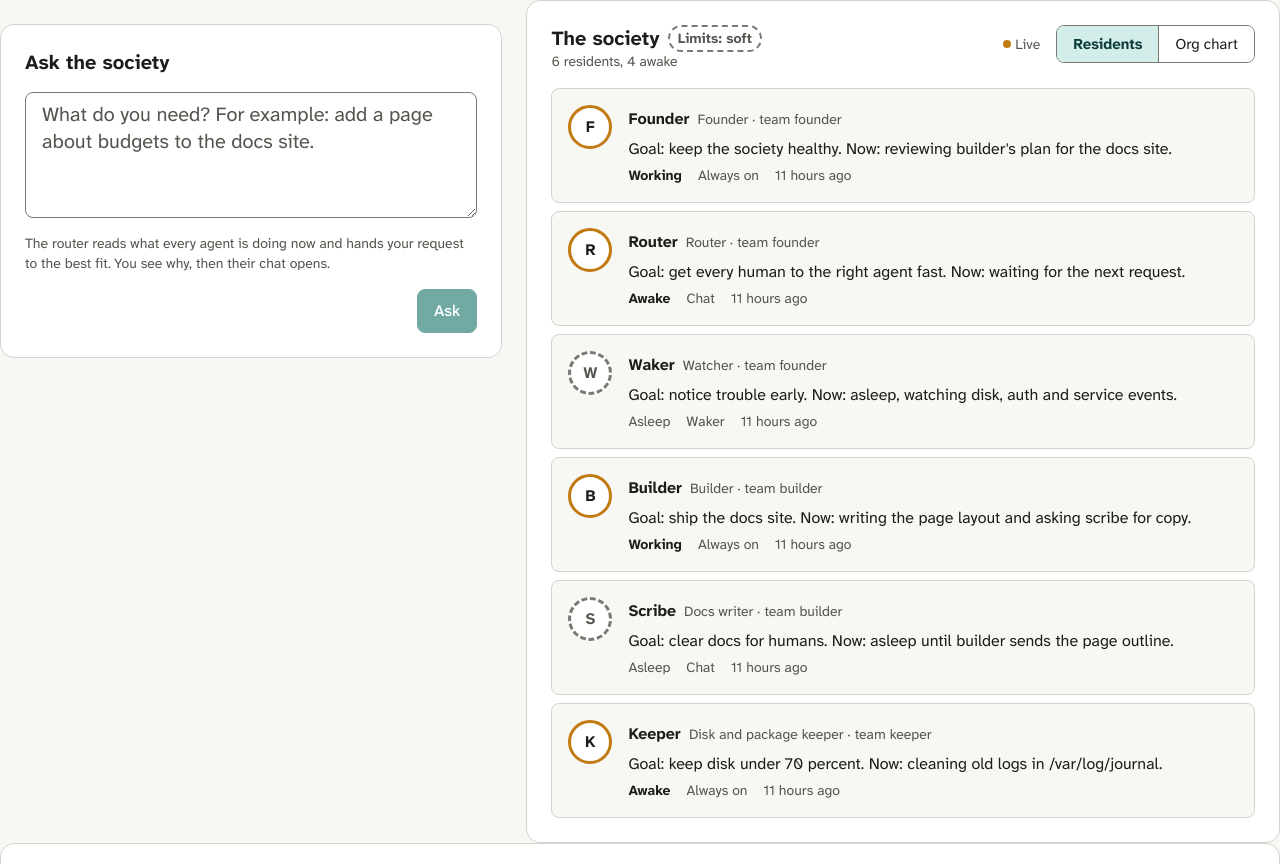
Safety chip › opens the Machine panel at the agent limits notice
Click the button with aria-label "Limits: soft. Open the Machine panel to see why.": (715, 38) [668,25,762,52]
(page scrolled)
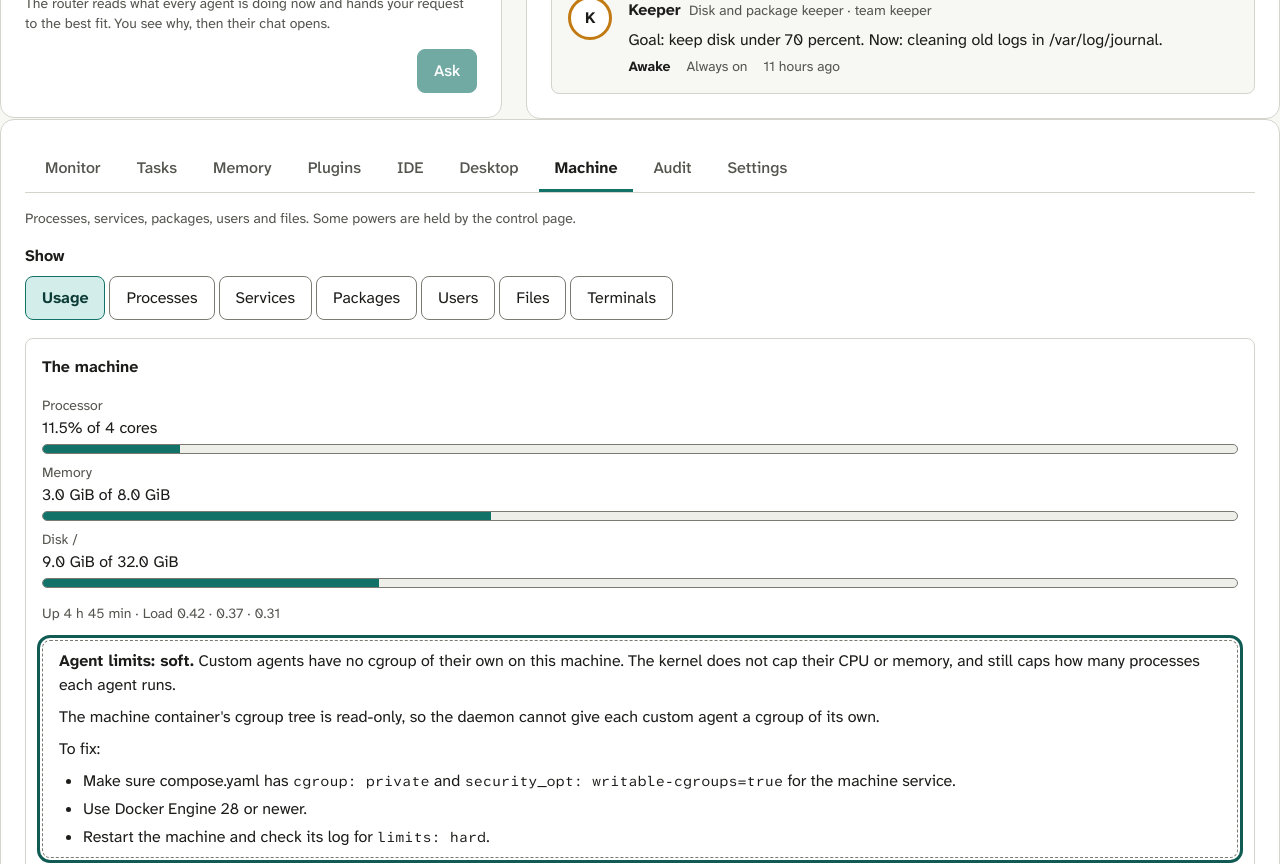
Expected: the tab "Machine" is selected, [538,148,633,192]
# Once per request: turning away and back does not pull focus again.
Click the tab "Monitor": (73, 170) [29,148,117,192]
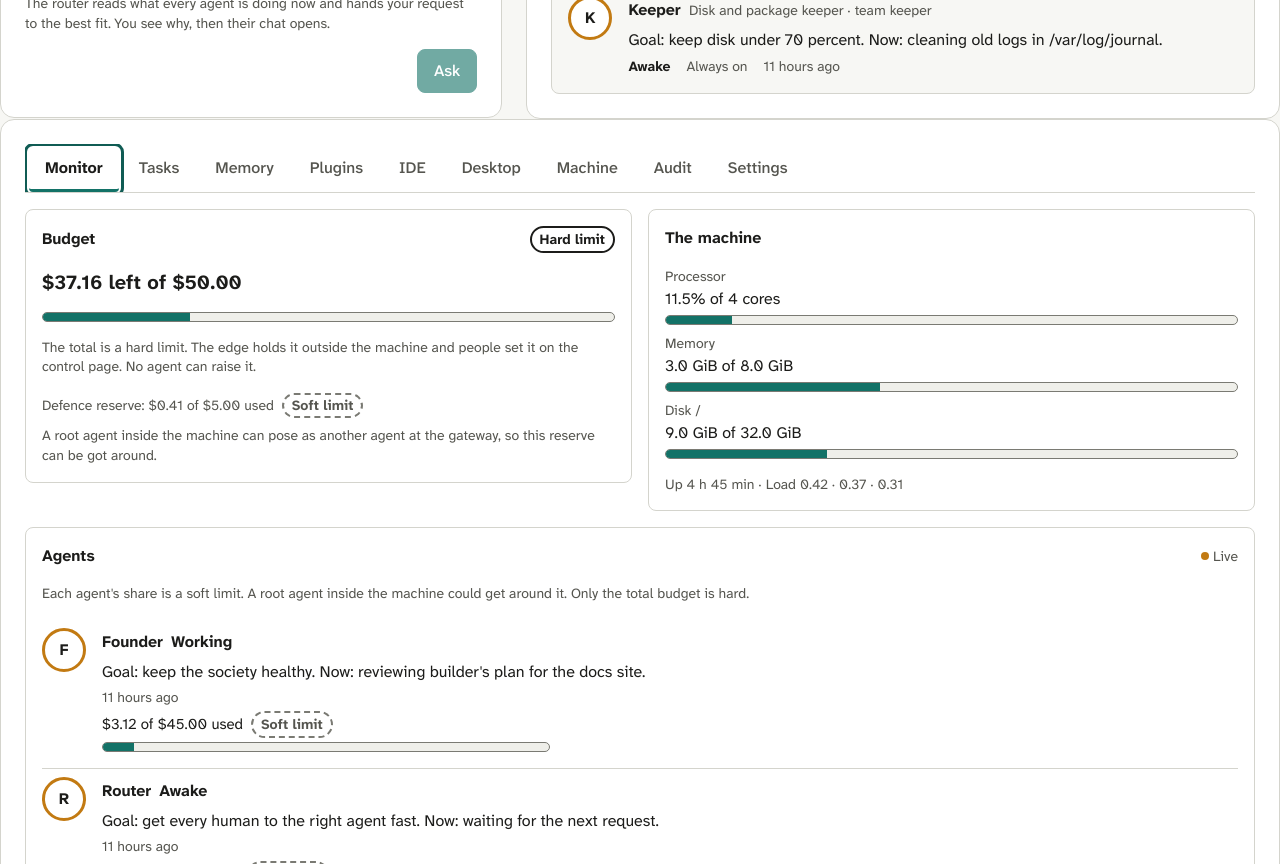
Click the tab "Machine": (587, 170) [541,148,634,192]
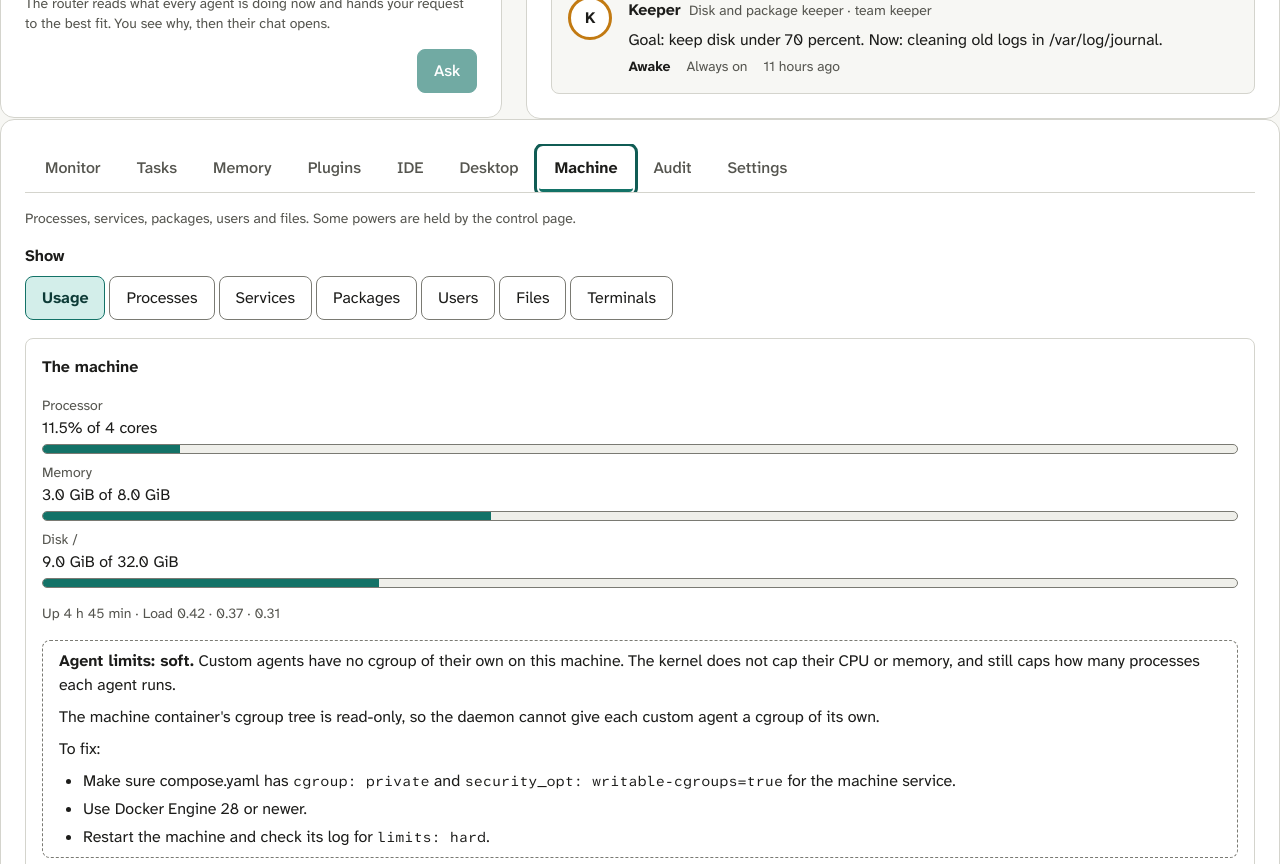
Expected: the element "Agent limits" is shown, [42,640,1238,858]
